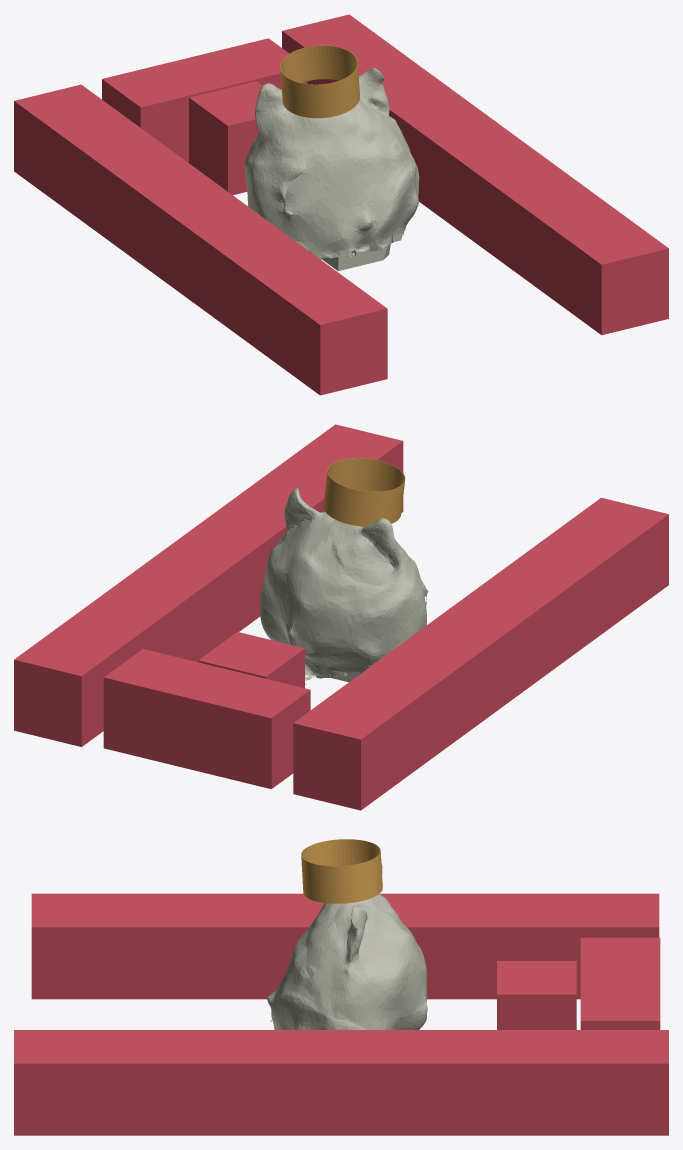
Rendered from tinker_meow.glb.
3 renders of one model, top to bottom at view 1: azimuth 30°, elevation 25°; view 2: azimuth 150°, elevation 25°; view 3: azimuth 270°, elevation 25°, orthographic. The views are drawn at different scales.
Visible parts, largest first — view 1: Mesh_Mesh_head_geo.001_lambert2SG.001; view 2: Mesh_Mesh_head_geo.001_lambert2SG.001; view 3: Mesh_Mesh_head_geo.001_lambert2SG.001.
Boxes of the visible parts, <box> form: Mesh_Mesh_head_geo.001_lambert2SG.001: <box>14,14,668,395</box>; Mesh_Mesh_head_geo.001_lambert2SG.001: <box>14,424,668,810</box>; Mesh_Mesh_head_geo.001_lambert2SG.001: <box>14,839,668,1135</box>.
Size of the model in its own units: 0.101 by 0.0531 by 0.1644.
